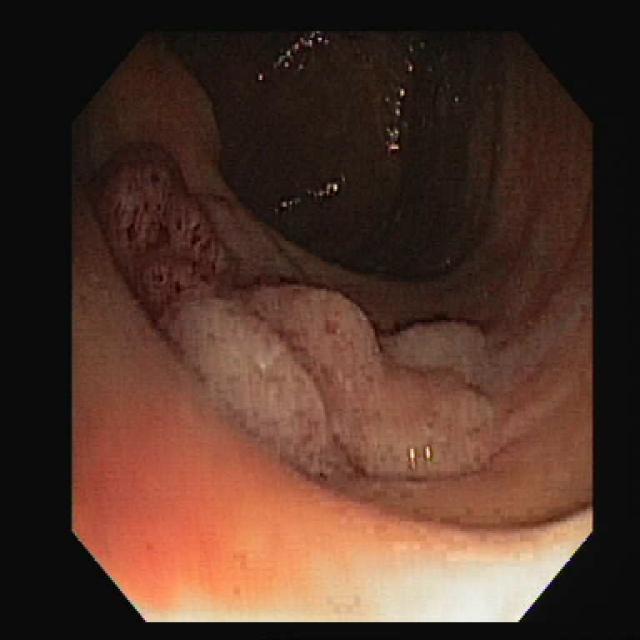tumor: (88, 147, 495, 513)
